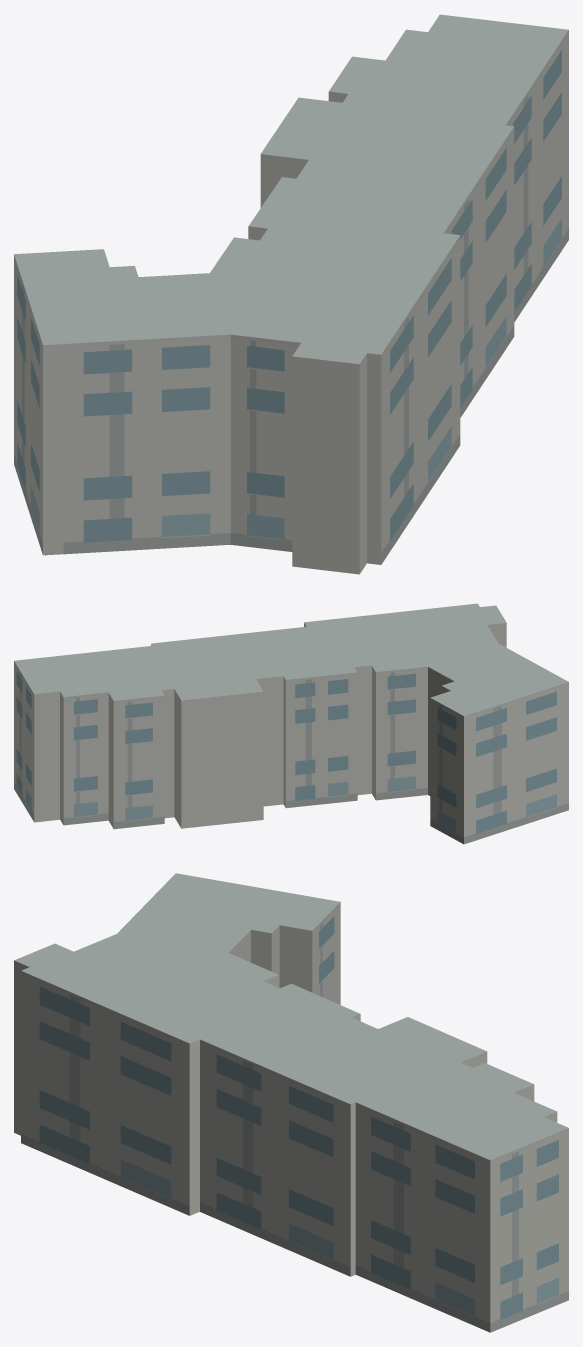
The model's file is residential-eb139e62-4076-408a-82ff-0fdd7e0d1f4e.glb.
3 views of the same model, one above another, from view 1: azimuth 30°, elevation 25°; view 2: azimuth 150°, elevation 25°; view 3: azimuth 270°, elevation 25° (orthographic). The views are drawn at different scales.
Parts seen in each view (by area): view 1: residential-eb139e62-4076-408a-82ff-0fdd7e0d1f4e.tmp; view 2: residential-eb139e62-4076-408a-82ff-0fdd7e0d1f4e.tmp; view 3: residential-eb139e62-4076-408a-82ff-0fdd7e0d1f4e.tmp.
Boxes of the visible parts, bbox=[...] form: residential-eb139e62-4076-408a-82ff-0fdd7e0d1f4e.tmp: bbox=[14, 14, 568, 574]; residential-eb139e62-4076-408a-82ff-0fdd7e0d1f4e.tmp: bbox=[14, 603, 568, 844]; residential-eb139e62-4076-408a-82ff-0fdd7e0d1f4e.tmp: bbox=[14, 873, 568, 1332].
Bounding box in the file's own units: 54.49 × 15.25 × 44.5.
